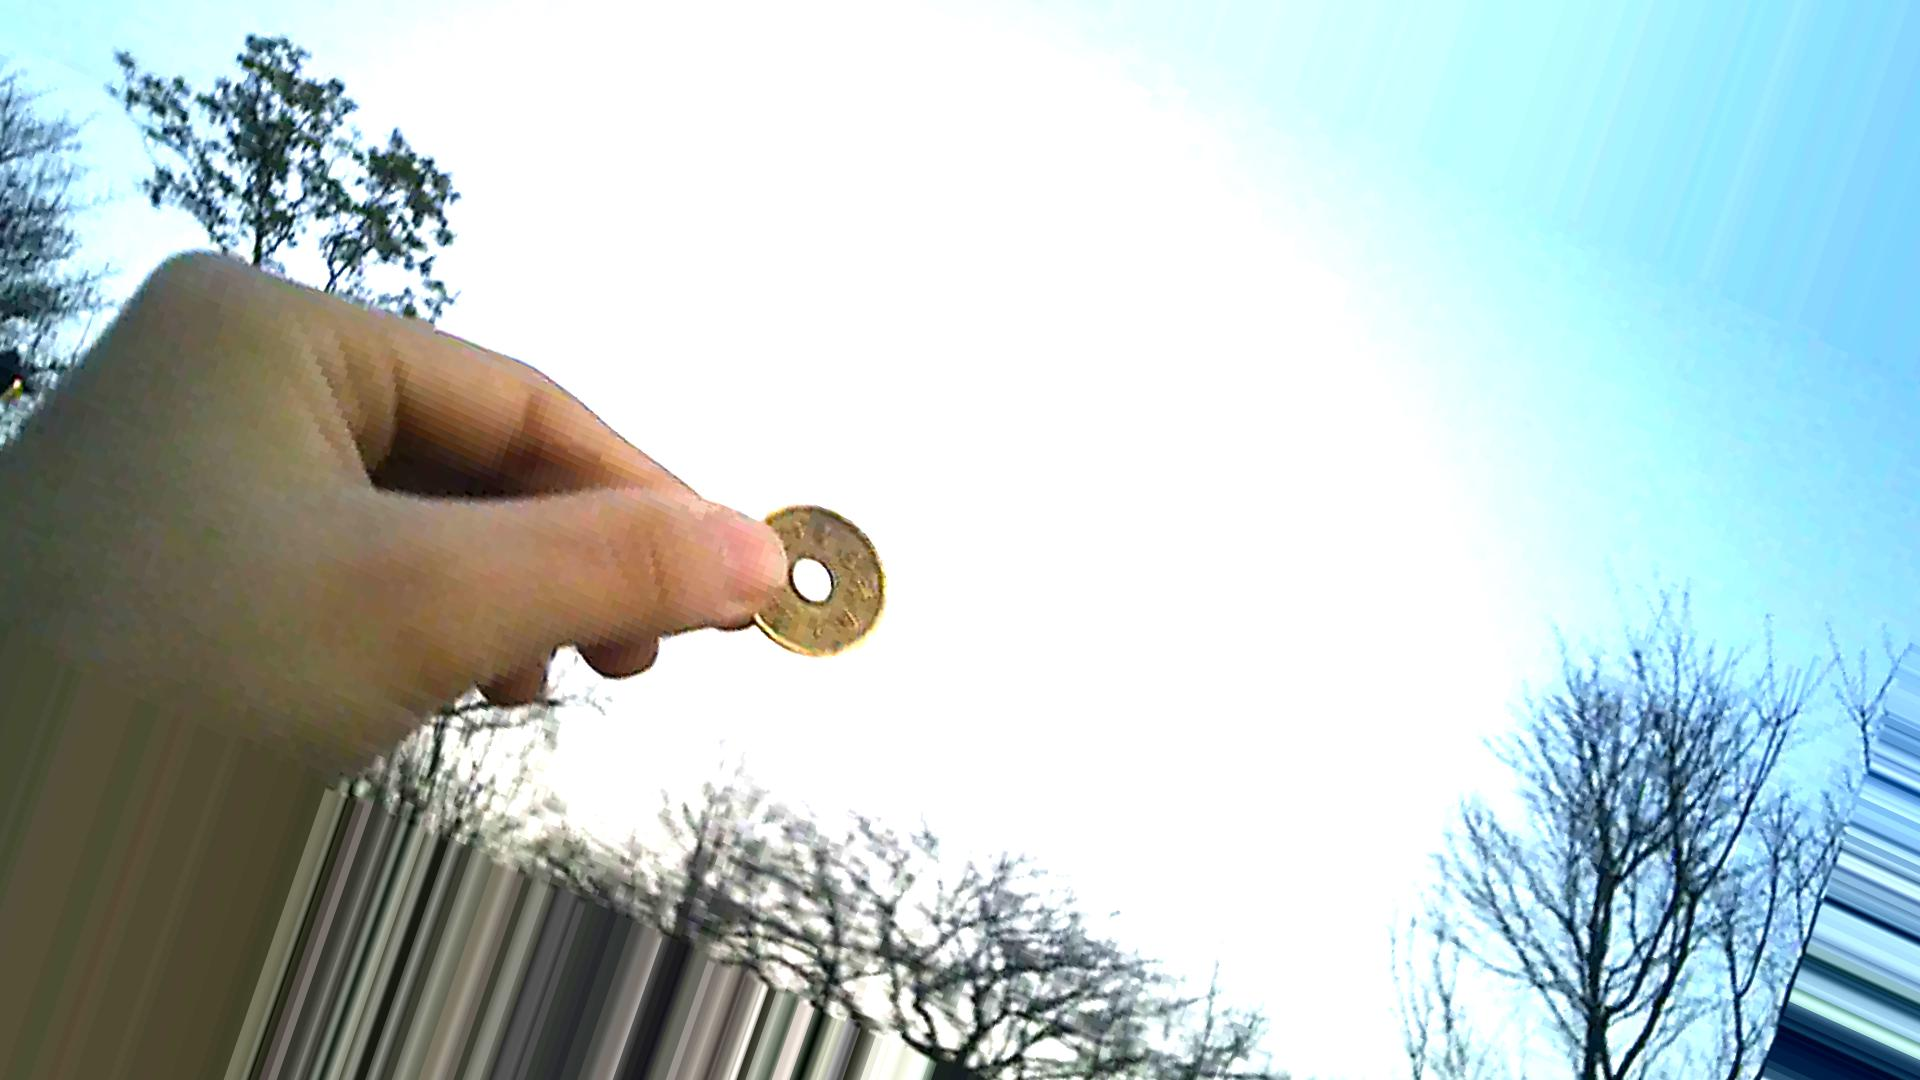5 Yen: (735, 495, 938, 669)
